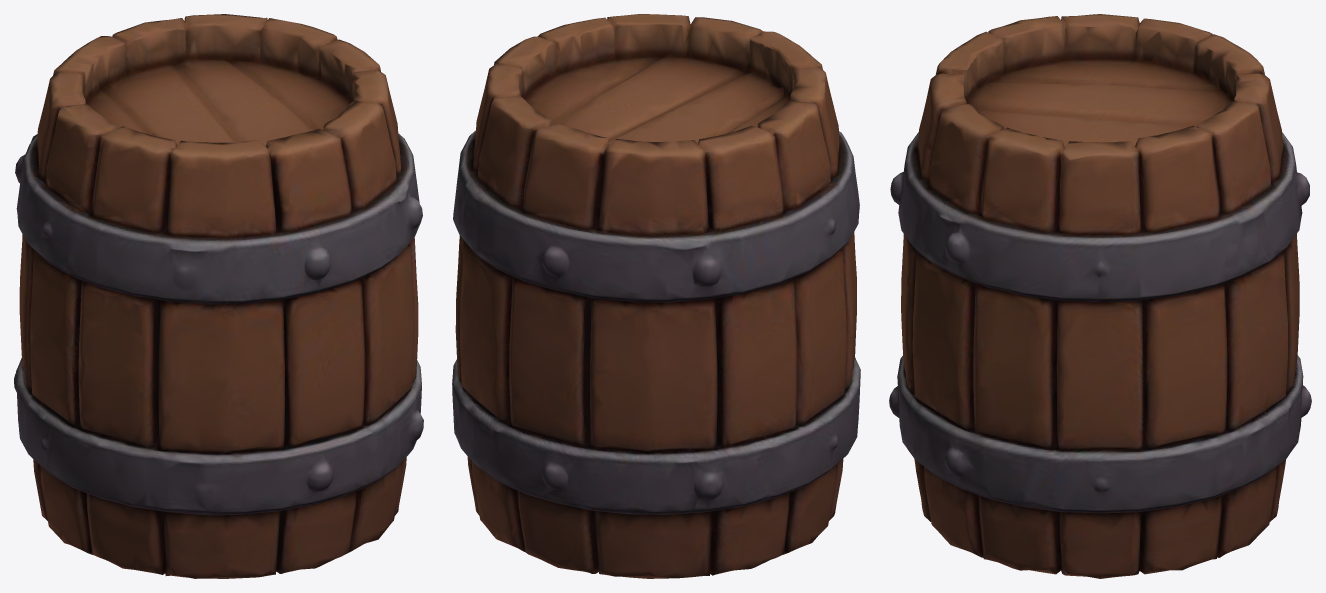
The model's file is barrel.glb.
3 renders of one model, left to right at view 1: azimuth 30°, elevation 25°; view 2: azimuth 150°, elevation 25°; view 3: azimuth 270°, elevation 25°, orthographic.
Parts seen in each view (by area): view 1: tripo_node_acc0ce73-b3bd-4632-8206-026bed55e637; view 2: tripo_node_acc0ce73-b3bd-4632-8206-026bed55e637; view 3: tripo_node_acc0ce73-b3bd-4632-8206-026bed55e637.
Boxes of the visible parts, left/top/right/bottom form: tripo_node_acc0ce73-b3bd-4632-8206-026bed55e637: left=14, top=14, right=423, bottom=578; tripo_node_acc0ce73-b3bd-4632-8206-026bed55e637: left=452, top=14, right=860, bottom=578; tripo_node_acc0ce73-b3bd-4632-8206-026bed55e637: left=889, top=14, right=1311, bottom=578.
Bounding box in the file's own units: 0.8826 × 1 × 0.9047.
1 material, 1 textured.
